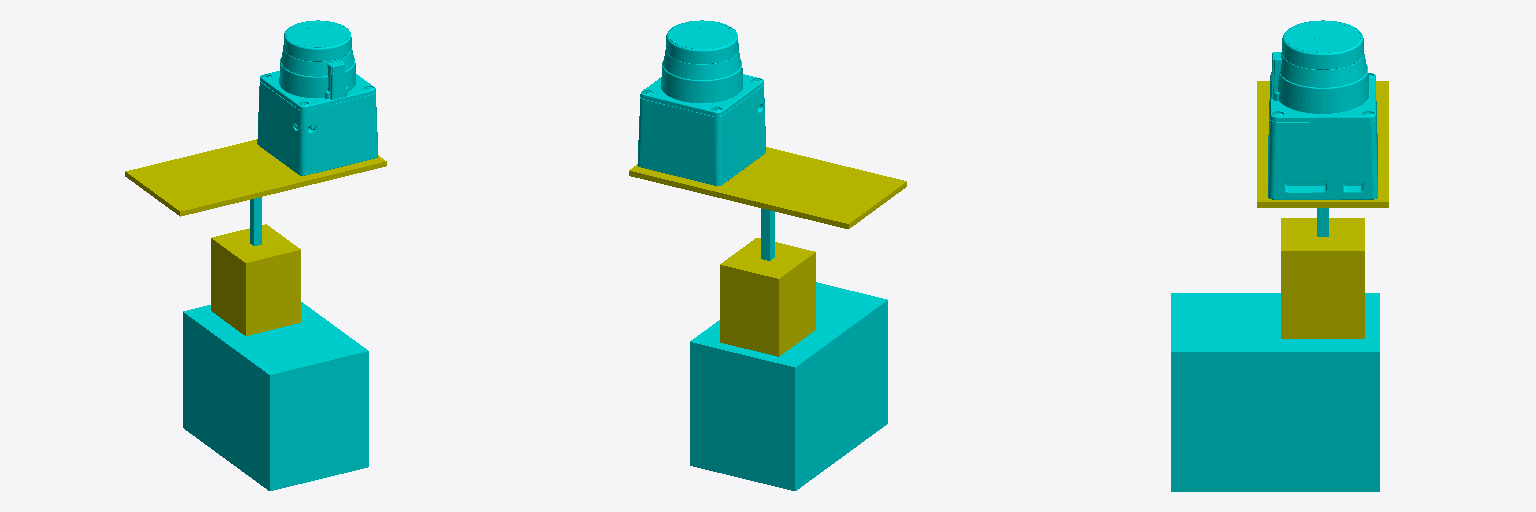
robot.urdf — real_pantilt:
<?xml version="1.0"?>
<!-- 
    Real Pan-Tilt Mechanism URDF
    Based on Gazebo simulation structure
    For use with Arduino-controlled hardware
-->
<robot name="real_pantilt" xmlns:xacro="http://ros.org/wiki/xacro">

    <!-- Base/World reference frame -->
    <link name="map">
        <inertial>
            <mass value="0.001" />
            <origin xyz="0 0 0" rpy="0 0 0" />
            <inertia ixx="0.0001" ixy="0" ixz="0" iyy="0.0001" iyz="0" izz="0.0001" />
        </inertial>
    </link>

    <!-- Base link - mounting point for pan-tilt -->
    <link name="base_link">
        <visual>
            <origin xyz="0.0 -0.05 0.035" rpy="0 0 0" />
            <geometry>
                <box size="0.0625 0.095 0.07" />
            </geometry>
            <material name="Cyan1">
                <color rgba="0 0.9 0.9 1.0" />
            </material>
        </visual>
        <inertial>
            <mass value="1" />
            <origin xyz="0 0 0" rpy="0 0 0" />
            <inertia ixx="0.01" ixy="0" ixz="0" iyy="0.01" iyz="0" izz="0.01" />
        </inertial>
    </link>

    <!-- Map to base_link fixed transform -->
    <joint name="map_to_base" type="fixed">
        <origin xyz="0 0 0" rpy="0 0 0" />
        <parent link="map" />
        <child link="base_link" />
    </joint>

    <!-- Pan link - rotates around Z axis -->
    <link name="pan_link">
        <visual>
            <origin xyz="0 0 0" rpy="0 0 0" />
            <geometry>
                <box size="0.035 0.038 0.044" />
            </geometry>
            <material name="Yellow2">
                <color rgba="0.8 0.8 0 1.0" />
            </material>
        </visual>
        <inertial>
            <mass value="0.50" />
            <origin xyz="0 0 0" rpy="0 0 0" />
            <inertia ixx="0.01" ixy="0" ixz="0" iyy="0.01" iyz="0" izz="0.01" />
        </inertial>
    </link>

    <!-- Pan joint - revolute around Z axis -->
    <!-- Note: Arduino uses position[1] for pan, joint name "joint2" -->
    <!-- Axis inverted (0 0 -1) to match encoder direction -->
    <joint name="joint2" type="revolute">
        <parent link="base_link" />
        <child link="pan_link" />
        <origin xyz="0 -0.0285 0.092" rpy="0 0 0" />
        <axis xyz="0 0 -1" />
        <limit effort="10" lower="-3.1416" upper="3.1416" velocity="3" />
        <dynamics damping="1.0" />
    </joint>

    <!-- Tilt link - rotates around Y axis (after 90 degree rotation) -->
    <link name="tilt_link">
        <visual>
            <origin xyz="-0.022 0 0" rpy="0 -1.57 0" />
            <geometry>
                <box size="0.005 0.005 0.044" />
            </geometry>
            <material name="Cyan1">
                <color rgba="0 0.9 0.9 1.0" />
            </material>
        </visual>
        <inertial>
            <mass value="0.20" />
            <origin xyz="0 0 0" rpy="0 0 0" />
            <inertia ixx="0.01" ixy="0" ixz="0" iyy="0.01" iyz="0" izz="0.01" />
        </inertial>
    </link>

    <!-- Tilt joint - revolute around Z axis (which becomes Y after rotation) -->
    <!-- Note: Arduino uses position[0] for tilt, joint name "joint1" -->
    <joint name="joint1" type="revolute">
        <parent link="pan_link" />
        <child link="tilt_link" />
        <origin xyz="0 0 0.022" rpy="0 1.57 0" />
        <axis xyz="0 0 1" />
        <limit effort="10" lower="-0.8727" upper="0.8727" velocity="3" />
        <dynamics damping="1.0" />
    </joint>

    <!-- Hokuyo base plate -->
    <link name="hokuyo_base">
        <visual>
            <origin xyz="0 0 0" rpy="0 -1.57 0" />
            <geometry>
                <box size="0.13 0.06 0.003" />
            </geometry>
            <material name="Yellow2">
                <color rgba="0.8 0.8 0 1.0" />
            </material>
        </visual>
        <inertial>
            <mass value="0.10" />
            <origin xyz="0 0 0" rpy="0 0 0" />
            <inertia ixx="0.01" ixy="0" ixz="0" iyy="0.01" iyz="0" izz="0.01" />
        </inertial>
    </link>

    <!-- Hokuyo base mounting -->
    <joint name="hokuyo_base_joint" type="fixed">
        <parent link="tilt_link" />
        <child link="hokuyo_base" />
        <origin xyz="-0.0450 0 0" rpy="0 0 0" />
        <dynamics damping="1.0" />
    </joint>

    <!-- Hokuyo sensor link -->
    <!-- Note: Using "laser" as link name to match the Hokuyo node's published frame_id -->
    <link name="laser">
        <visual>
            <origin xyz="0.017 0.0 -0.059" rpy="1.57 0 0" />
            <geometry>
                <!-- <box size="0.05 0.05 0.07" /> -->
                <mesh filename="package://hokuyo_go/urdf/meshes/URG-04LX.dae" scale="0.001 0.001 0.001" />
            </geometry>
            <material name="Cyan1">
                <color rgba="0 0.9 0.9 1.0" />
            </material>
        </visual>
        <inertial>
            <mass value="0.16" />
            <origin xyz="0 0 0" rpy="0 0 0" />
            <inertia ixx="0.001" ixy="0" ixz="0" iyy="0.001" iyz="0" izz="0.001" />
        </inertial>
    </link>

    <!-- Hokuyo sensor mounting with proper orientation -->
    <joint name="hokuyo_joint" type="fixed">
        <origin xyz="-0.061 -0.0170 0.039" rpy="1.57 3.14 -1.57" />
        <parent link="hokuyo_base" />
        <child link="laser" />
        <dynamics damping="1.0" />
    </joint>

</robot>

--- Facts derived from the render (not from the file) ---
The picture shows the robot from 3 angles, left to right: view 1: azimuth 30°, elevation 25°; view 2: azimuth 150°, elevation 25°; view 3: azimuth 270°, elevation 25°; orthographic projection.
Robot: real_pantilt — 6 links, 5 joints (2 revolute, 3 fixed); root link map; default pose: all joints at 0.
Links seen in each view (by area): view 1: base_link, laser, hokuyo_base, pan_link, tilt_link; view 2: base_link, laser, hokuyo_base, pan_link, tilt_link; view 3: base_link, laser, pan_link, hokuyo_base.
Boxes of the visible links, x1,y1,x2,y2 form: base_link: [183, 302, 368, 490]; laser: [257, 20, 377, 175]; hokuyo_base: [125, 139, 386, 216]; pan_link: [211, 224, 300, 335]; tilt_link: [250, 197, 261, 245]; base_link: [690, 282, 887, 490]; laser: [637, 20, 765, 185]; hokuyo_base: [629, 147, 906, 228]; pan_link: [720, 238, 815, 356]; tilt_link: [761, 208, 774, 260]; base_link: [1171, 293, 1379, 491]; laser: [1268, 20, 1377, 199]; pan_link: [1281, 218, 1364, 338]; hokuyo_base: [1257, 81, 1388, 207].
Size in the robot's own frame: 0.13 by 0.099 by 0.2311 metres.
Meshes: 1 distinct files referenced, 1 mesh visuals loaded (1 Collada DAE).